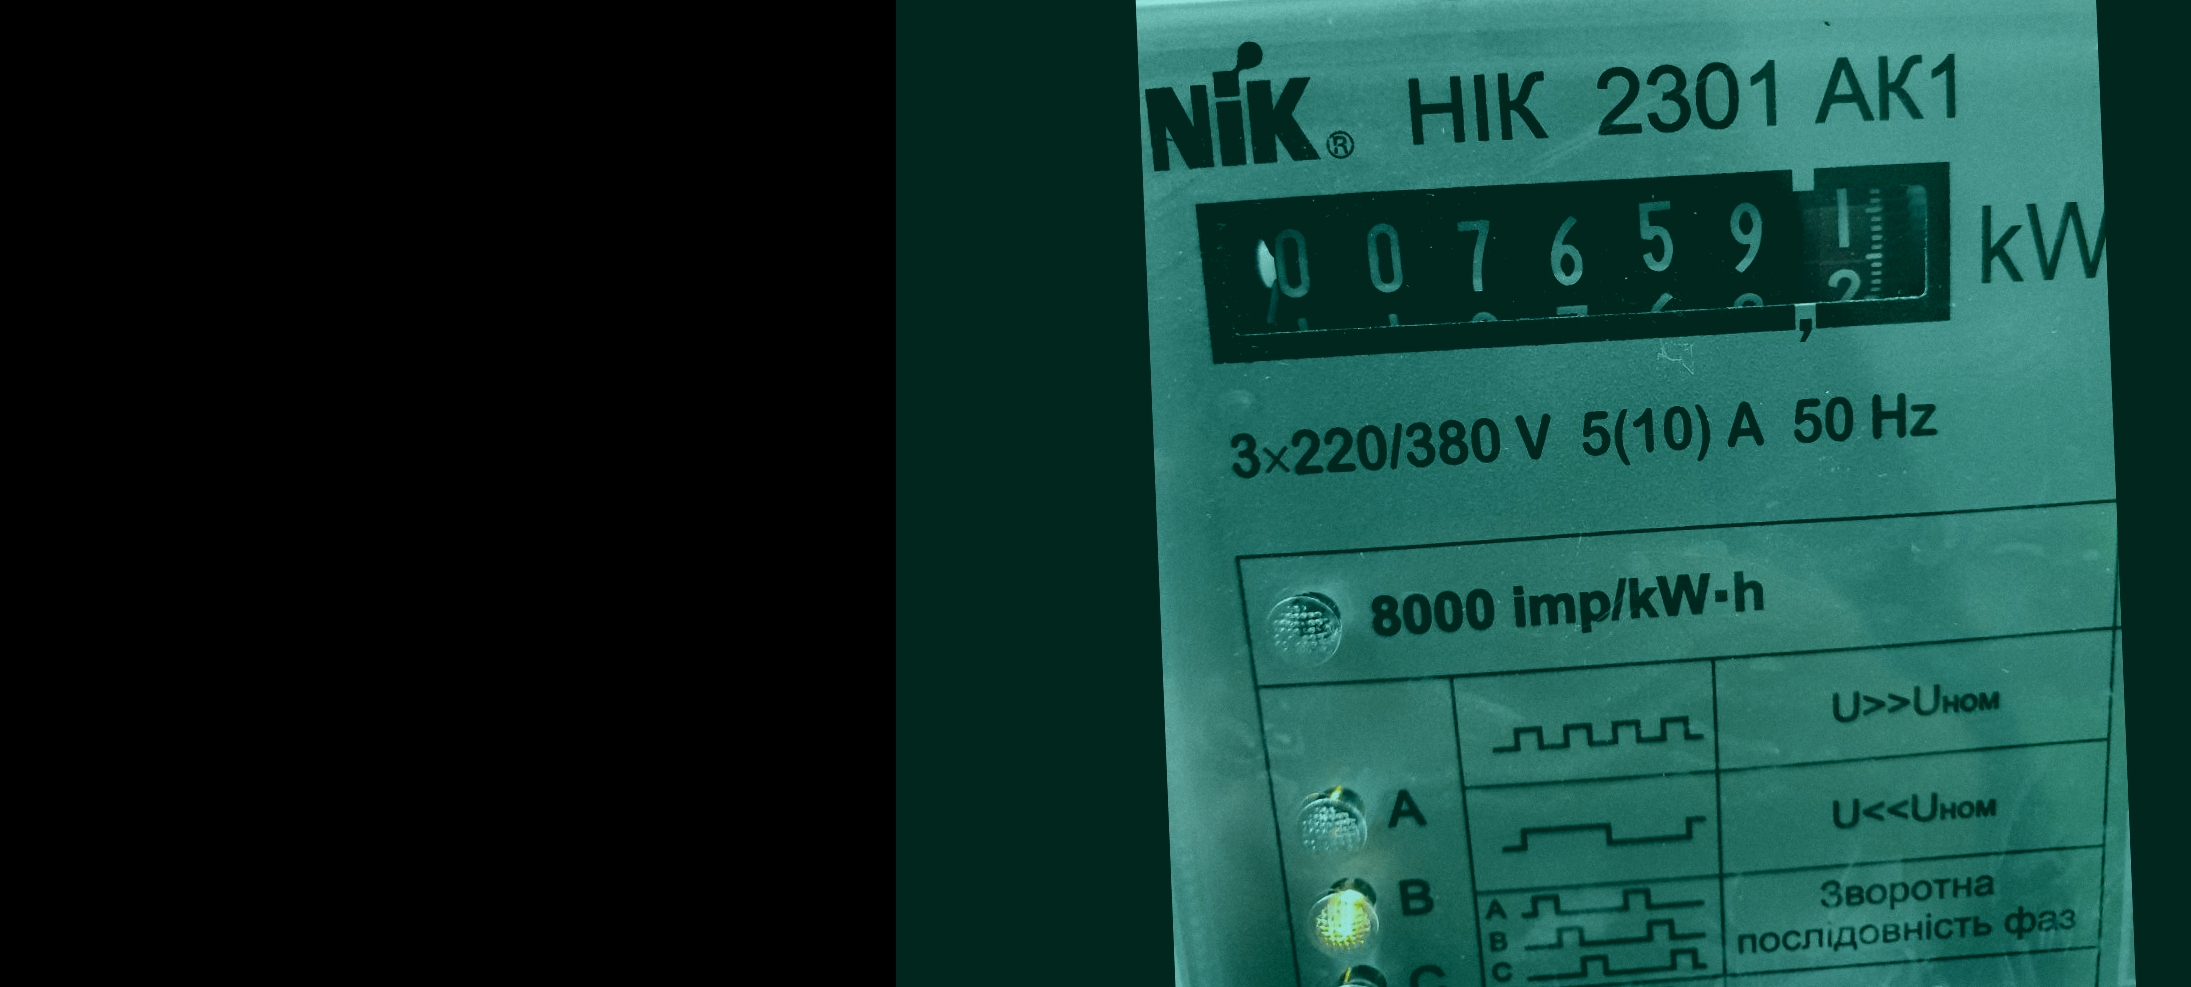0: (1353, 211, 1413, 301), (1265, 217, 1319, 308)
1: (1826, 179, 1863, 254)
5: (1631, 193, 1680, 275)
6: (1538, 206, 1593, 289)
7: (1450, 211, 1497, 298)
9: (1724, 192, 1769, 282)
screen: (1177, 138, 1977, 384)
